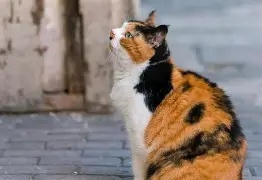三花猫: (110, 11, 216, 179)
